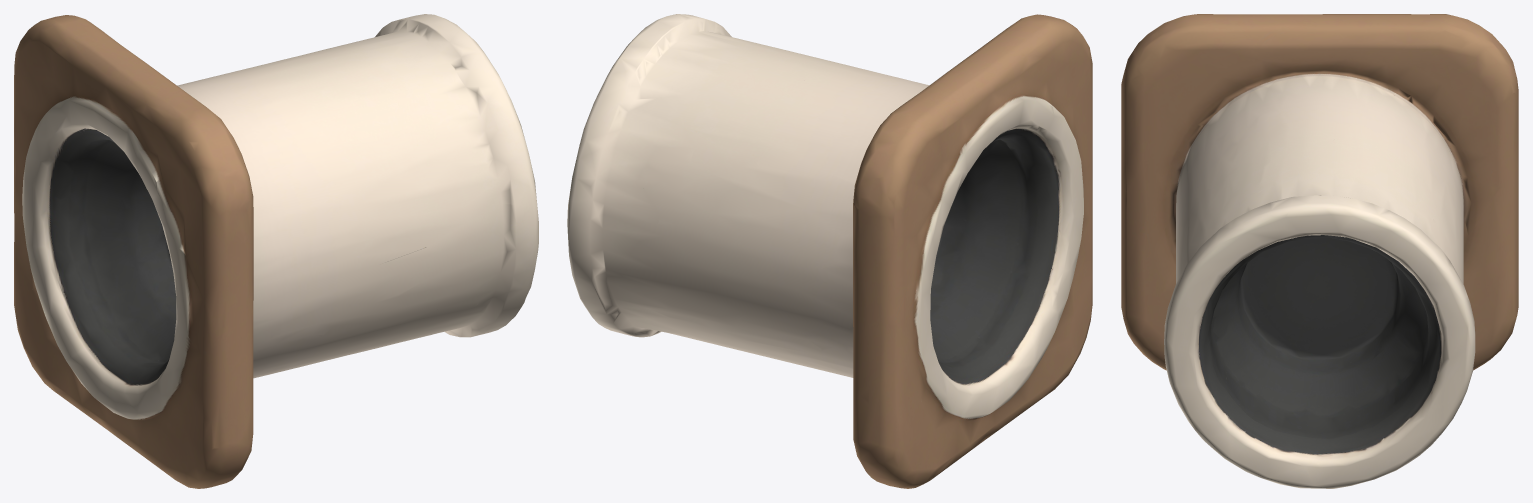
The model's file is stage1-wheat-source-v014-textured.glb.
The picture shows the model from 3 angles, left to right: view 1: azimuth 30°, elevation 25°; view 2: azimuth 150°, elevation 25°; view 3: azimuth 270°, elevation 25°; orthographic projection. The views are drawn at different scales.
Visible parts, largest first — view 1: tripo_node_702110a7-63e4-4b62-8e30-b7e1c8144831; view 2: tripo_node_702110a7-63e4-4b62-8e30-b7e1c8144831; view 3: tripo_node_702110a7-63e4-4b62-8e30-b7e1c8144831.
Boxes of the visible parts, x1=… form: tripo_node_702110a7-63e4-4b62-8e30-b7e1c8144831: x1=14, y1=14, x2=538, y2=488; tripo_node_702110a7-63e4-4b62-8e30-b7e1c8144831: x1=567, y1=14, x2=1092, y2=488; tripo_node_702110a7-63e4-4b62-8e30-b7e1c8144831: x1=1121, y1=14, x2=1518, y2=488.
Size of the model in its own units: 0.9964 by 0.9875 by 1.
1 material, 1 textured.
